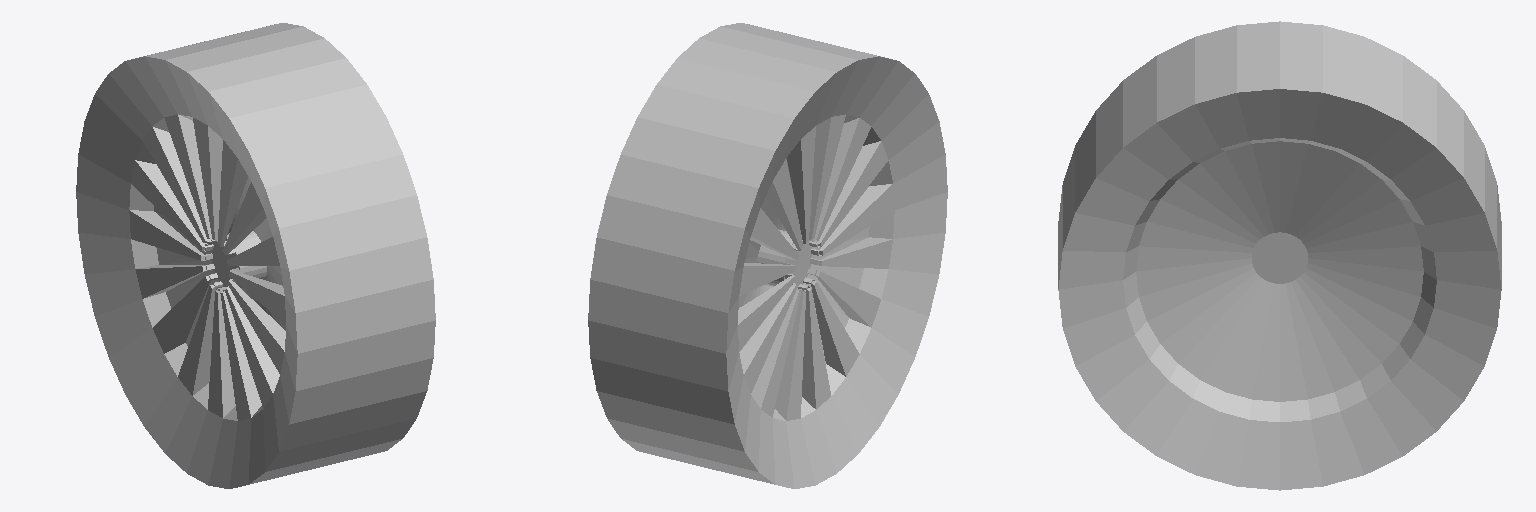
The model's file is roda_frente_esquerda.obj.
3 renders of one model, left to right at view 1: azimuth 30°, elevation 25°; view 2: azimuth 150°, elevation 25°; view 3: azimuth 270°, elevation 25°, orthographic.
Parts seen in each view (by area): view 1: Roda_frente_esquerda; view 2: Roda_frente_esquerda; view 3: Roda_frente_esquerda.
Boxes of the visible parts, box(x1,y1,x2,y2) form: Roda_frente_esquerda: box(76, 23, 435, 488); Roda_frente_esquerda: box(588, 23, 947, 488); Roda_frente_esquerda: box(1058, 21, 1501, 490).
Size of the model in its own units: 0.2109 by 0.5859 by 0.5859.